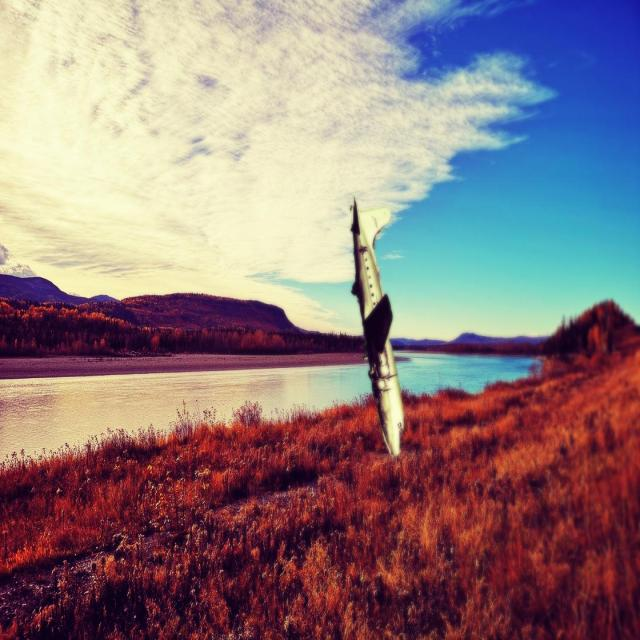airplane: (349, 194, 404, 459)
